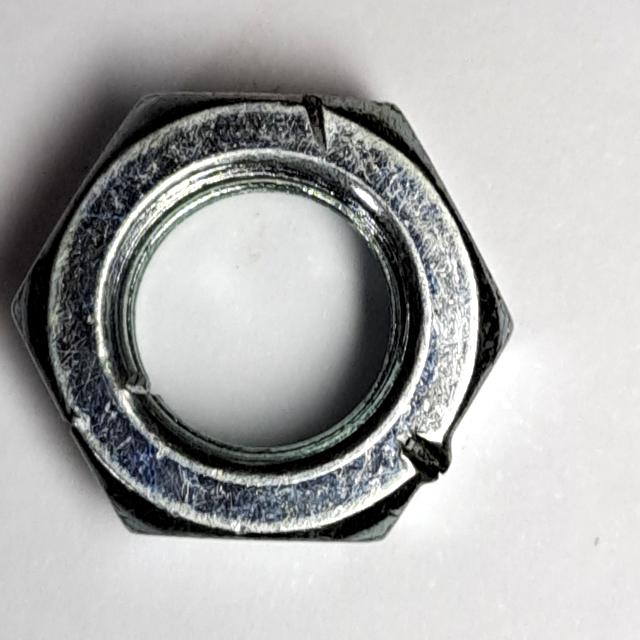Scratches: (12, 68, 527, 565)
